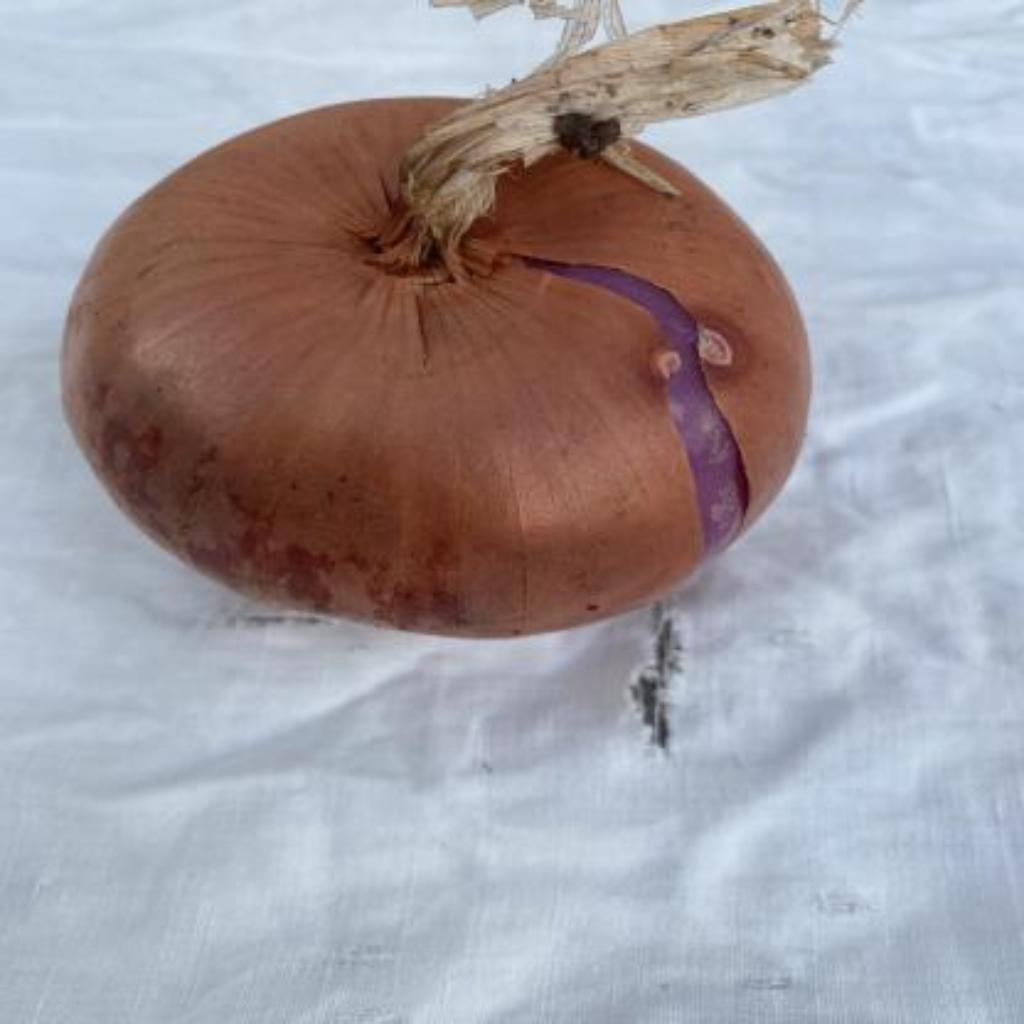Onion: (62, 0, 837, 636)
